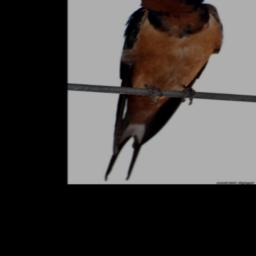Swallow: (103, 0, 224, 182)
